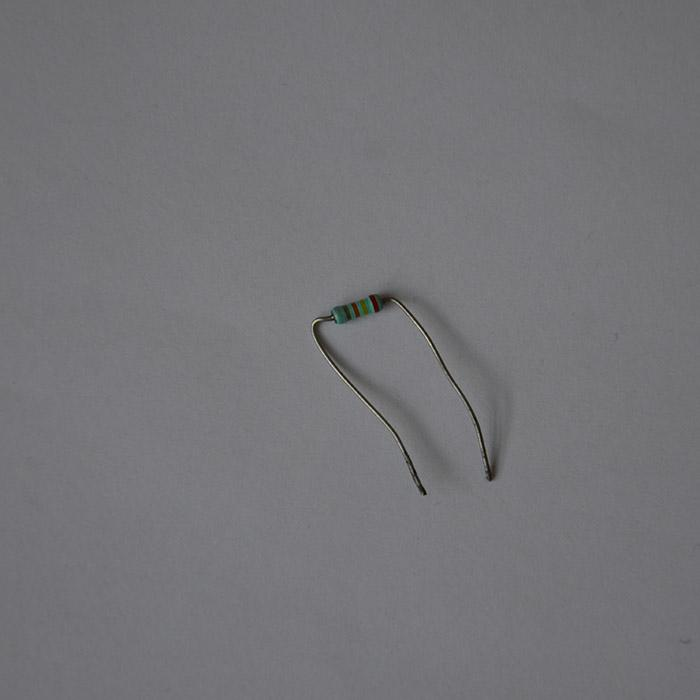resistor: (330, 293, 384, 324)
